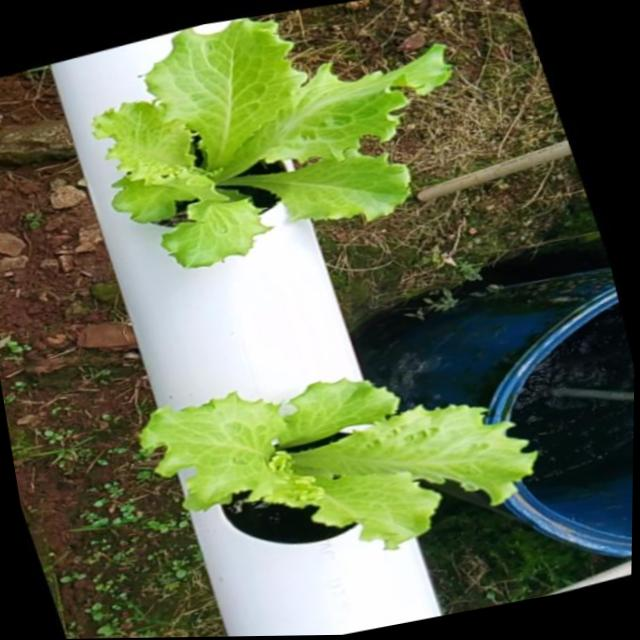Baby: (92, 22, 454, 273), (142, 387, 541, 559)
